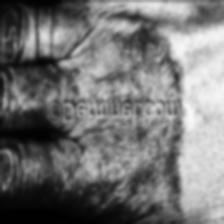Toxin: (116, 139, 170, 211), (116, 24, 154, 66)
